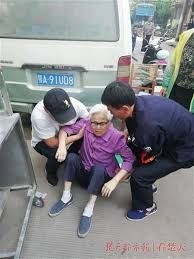falling: (41, 97, 136, 239)
